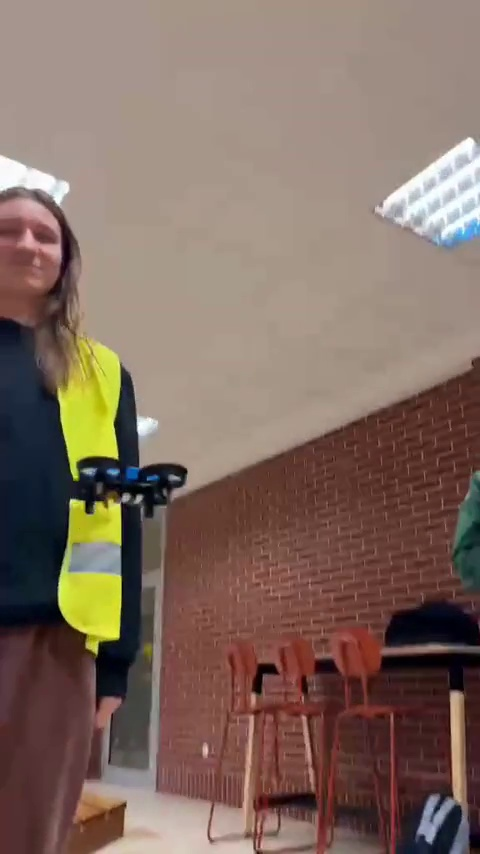drone: (71, 451, 189, 511)
vest: (0, 169, 143, 845)
